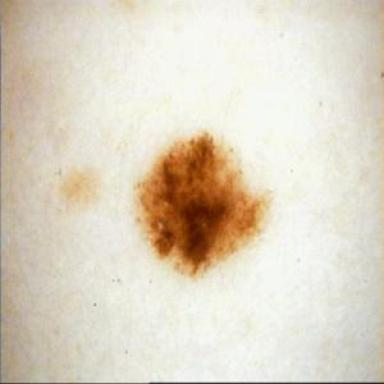Melanoma: (136, 131, 269, 276)
